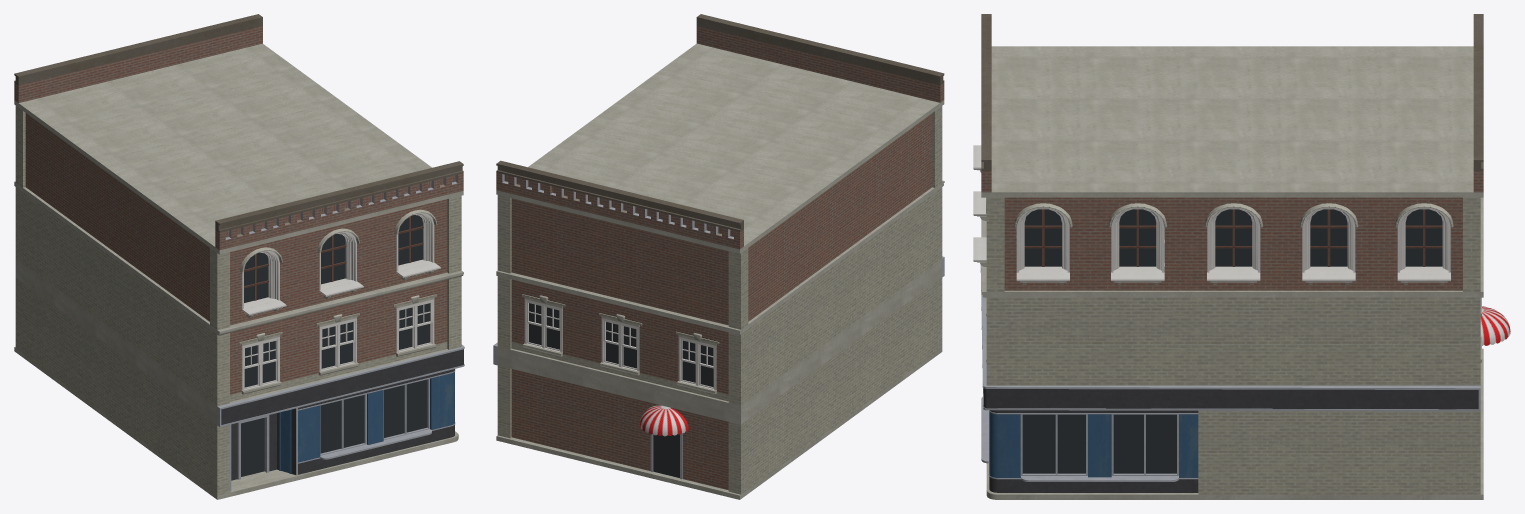
3 renders of one model, left to right at view 1: azimuth 30°, elevation 25°; view 2: azimuth 150°, elevation 25°; view 3: azimuth 270°, elevation 25°, orthographic. The views are drawn at different scales.
Visible parts, largest first — view 1: Building_LP; view 2: Building_LP; view 3: Building_LP.
Part boxes in pixels (<box>): Building_LP: <box>14,14,464,499</box>; Building_LP: <box>493,14,944,499</box>; Building_LP: <box>973,14,1510,499</box>.
Size of the model in its own units: 1094 by 1145 by 1638.
1 material, 1 textured.
